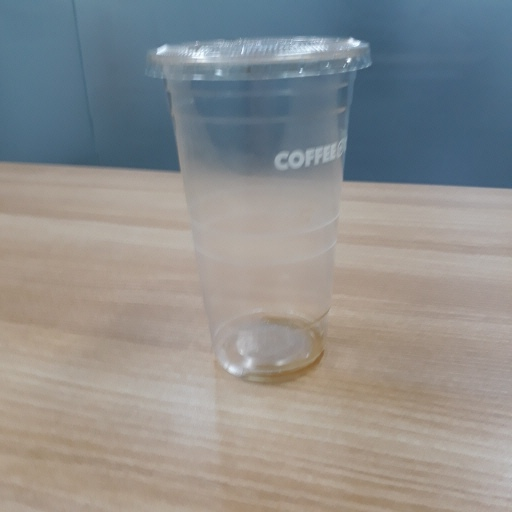Plastic_2: (142, 34, 376, 383)
